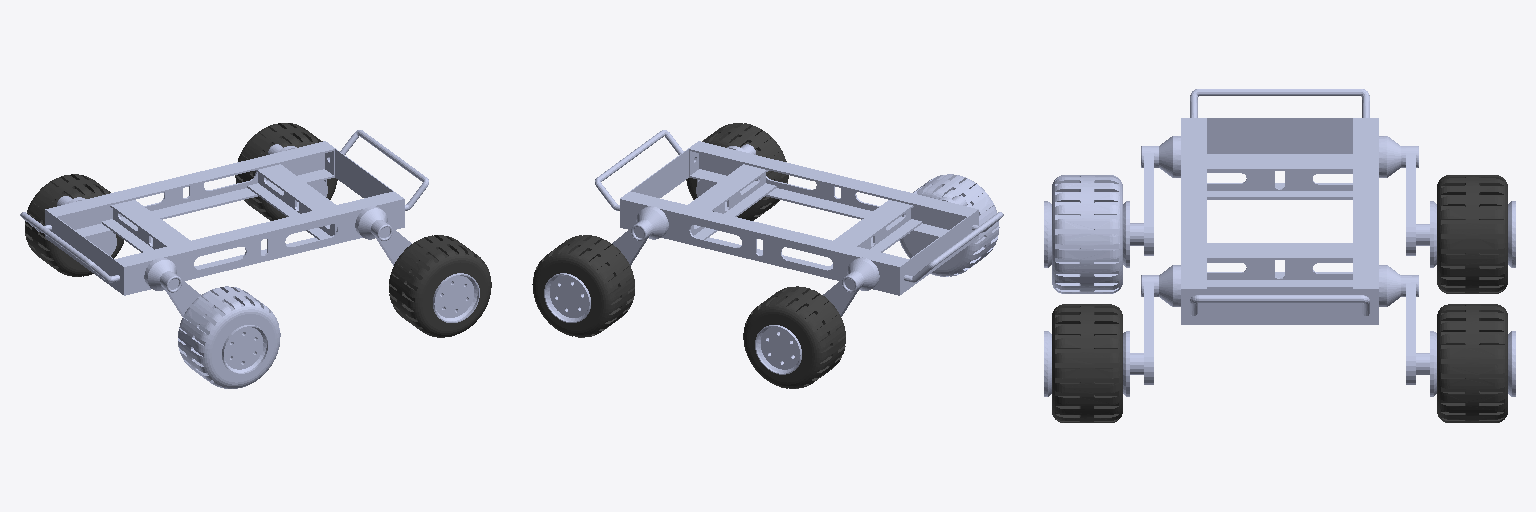
robot.urdf — proyecto_fumigador:
<?xml version="1.0" encoding="utf-8"?>
<!-- This URDF was automatically created by SolidWorks to URDF Exporter! Originally created by [author] ([email redacted]) 
     Commit Version: 1.6.0-1-g15f4949  Build Version: 1.6.7594.29634
     For more information, please see http://wiki.ros.org/sw_urdf_exporter -->
<robot
  name="proyecto_fumigador">
  <link
    name="base_link">
    <inertial>
      <origin
        xyz="-0.0356612346735711 3.67805356615847E-07 -0.0128610641223568"
        rpy="0 0 0" />
      <mass
        value="0.167760532974942" />
      <inertia
        ixx="3.71800544199456E-05"
        ixy="-8.22262142266548E-09"
        ixz="4.21907518734883E-06"
        iyy="9.62356157495E-05"
        iyz="-3.47433005707568E-09"
        izz="0.000105766981173787" />
    </inertial>
    <visual>
      <origin
        xyz="0 0 0"
        rpy="0 0 0" />
      <geometry>
        <mesh
          filename="package://proyecto_fumigador/meshes/base_link.STL" />
      </geometry>
      <material
        name="">
        <color
          rgba="0.792156862745098 0.819607843137255 0.933333333333333 1" />
      </material>
    </visual>
    <collision>
      <origin
        xyz="0 0 0"
        rpy="0 0 0" />
      <geometry>
        <mesh
          filename="package://proyecto_fumigador/meshes/base_link.STL" />
      </geometry>
    </collision>
  </link>
  <link
    name="Rueda_delante_derecha">
    <inertial>
      <origin
        xyz="-6.6613E-16 -6.1062E-16 0.02106"
        rpy="0 0 0" />
      <mass
        value="0.064311" />
      <inertia
        ixx="2.2707E-05"
        ixy="-7.6233E-21"
        ixz="-4.2246E-20"
        iyy="2.2707E-05"
        iyz="-3.5114E-20"
        izz="3.3129E-05" />
    </inertial>
    <visual>
      <origin
        xyz="0 0 0"
        rpy="0 0 0" />
      <geometry>
        <mesh
          filename="package://proyecto_fumigador/meshes/Rueda_delante_derecha.STL" />
      </geometry>
      <material
        name="">
        <color
          rgba="0.29804 0.29804 0.29804 1" />
      </material>
    </visual>
    <collision>
      <origin
        xyz="0 0 0"
        rpy="0 0 0" />
      <geometry>
        <mesh
          filename="package://proyecto_fumigador/meshes/Rueda_delante_derecha.STL" />
      </geometry>
    </collision>
  </link>
  <joint
    name="Rueda_delante_derecha_joint"
    type="continuous">
    <origin
      xyz="0.04679 -0.073443 -0.022585"
      rpy="1.5708 0.90612 0" />
    <parent
      link="base_link" />
    <child
      link="Rueda_delante_derecha" />
    <axis
      xyz="0 0 1" />
    <limit
      effort="100"
      velocity="100" />
  </joint>
  <link
    name="Rueda_delante_izquierda">
    <inertial>
      <origin
        xyz="-5.5511E-17 2.7756E-17 -0.02106"
        rpy="0 0 0" />
      <mass
        value="0.064311" />
      <inertia
        ixx="2.2707E-05"
        ixy="2.9646E-21"
        ixz="3.8695E-20"
        iyy="2.2707E-05"
        iyz="-1.5635E-21"
        izz="3.3129E-05" />
    </inertial>
    <visual>
      <origin
        xyz="0 0 0"
        rpy="0 0 0" />
      <geometry>
        <mesh
          filename="package://proyecto_fumigador/meshes/Rueda_delante_izquierda.STL" />
      </geometry>
      <material
        name="">
        <color
          rgba="0.29804 0.29804 0.29804 1" />
      </material>
    </visual>
    <collision>
      <origin
        xyz="0 0 0"
        rpy="0 0 0" />
      <geometry>
        <mesh
          filename="package://proyecto_fumigador/meshes/Rueda_delante_izquierda.STL" />
      </geometry>
    </collision>
  </link>
  <joint
    name="Rueda_delante_izquierda_joint"
    type="continuous">
    <origin
      xyz="0.046792 0.11556 -0.022583"
      rpy="1.5708 0.22028 -3.1416" />
    <parent
      link="base_link" />
    <child
      link="Rueda_delante_izquierda" />
    <axis
      xyz="0 0 1" />
    <limit
      effort="100"
      velocity="100" />
  </joint>
  <link
    name="Rueda_atras_izquierda">
    <inertial>
      <origin
        xyz="2.7756E-17 4.1633E-17 -0.02106"
        rpy="0 0 0" />
      <mass
        value="0.064311" />
      <inertia
        ixx="2.2707E-05"
        ixy="-2.9646E-20"
        ixz="2.0358E-21"
        iyy="2.2707E-05"
        iyz="-2.2088E-20"
        izz="3.3129E-05" />
    </inertial>
    <visual>
      <origin
        xyz="0 0 0"
        rpy="0 0 0" />
      <geometry>
        <mesh
          filename="package://proyecto_fumigador/meshes/Rueda_atras_izquierda.STL" />
      </geometry>
      <material
        name="">
        <color
          rgba="0.29804 0.29804 0.29804 1" />
      </material>
    </visual>
    <collision>
      <origin
        xyz="0 0 0"
        rpy="0 0 0" />
      <geometry>
        <mesh
          filename="package://proyecto_fumigador/meshes/Rueda_atras_izquierda.STL" />
      </geometry>
    </collision>
  </link>
  <joint
    name="Rueda_atras_izquierda_joint"
    type="continuous">
    <origin
      xyz="-0.10336 0.11556 -0.022583"
      rpy="1.5708 -1.1729 3.1416" />
    <parent
      link="base_link" />
    <child
      link="Rueda_atras_izquierda" />
    <axis
      xyz="0 0 1" />
    <limit
      effort="100"
      velocity="100" />
  </joint>
  <link
    name="Rueda_atras_derecha">
    <inertial>
      <origin
        xyz="-0.035661 3.6781E-07 -0.012861"
        rpy="0 0 0" />
      <mass
        value="0.16776" />
      <inertia
        ixx="3.718E-05"
        ixy="-8.2226E-09"
        ixz="4.2191E-06"
        iyy="9.6236E-05"
        iyz="-3.4743E-09"
        izz="0.00010577" />
    </inertial>
    <visual>
      <origin
        xyz="0 0 0"
        rpy="0 0 0" />
      <geometry>
        <mesh
          filename="package://proyecto_fumigador/meshes/Rueda_atras_derecha.STL" />
      </geometry>
      <material
        name="">
        <color
          rgba="0.79216 0.81961 0.93333 1" />
      </material>
    </visual>
    <collision>
      <origin
        xyz="0 0 0"
        rpy="0 0 0" />
      <geometry>
        <mesh
          filename="package://proyecto_fumigador/meshes/Rueda_atras_derecha.STL" />
      </geometry>
    </collision>
  </link>
  <joint
    name="Rueda_atras_derecha_joint"
    type="continuous">
    <origin
      xyz="-0.10336 -0.073443 -0.022585"
      rpy="-1.5708 -1.0066 0" />
    <parent
      link="base_link" />
    <child
      link="Rueda_atras_derecha" />
    <axis
      xyz="0 0 1" />
    <limit
      effort="100"
      velocity="100" />
  </joint>

  <gazebo reference="base_link">
    <mu1>2</mu1>
    <mu2>2</mu2>
    <kp>1000000</kp>
    <kd>1</kd>
    <material>Gazebo/Yellow</material>
  </gazebo>

  <gazebo reference="Rueda_atras_izquierda">
    <mu1>2</mu1>
    <mu2>2</mu2>
    <kp>1000000</kp>
    <kd>1</kd>
    <material>Gazebo/Gray</material>
  </gazebo>

  <gazebo reference="Rueda_delante_derecha">
    <mu1>2</mu1>
    <mu2>2</mu2>
    <kp>1000000</kp>
    <kd>1</kd>
    <material>Gazebo/Gray</material>
  </gazebo>
  <gazebo reference="Rueda_atras_derecha">
    <mu1>2</mu1>
    <mu2>2</mu2>
    <kp>1000000</kp>
    <kd>1</kd>
    <material>Gazebo/Gray</material>
  </gazebo>
  <gazebo reference="Rueda_delante_izquierda">
    <mu1>2</mu1>
    <mu2>2</mu2>
    <kp>1000000</kp>
    <kd>1</kd>
    <material>Gazebo/Gray</material>
  </gazebo>

<gazebo>
    
    <plugin name="skid_steer_drive_controller" filename="libgazebo_ros_skid_steer_drive.so">
      <updateRate>50.0</updateRate>
      <robotNamespace>/</robotNamespace>

      <leftFrontJoint>Rueda_delante_izquierda_joint</leftFrontJoint>
      <rightFrontJoint>Rueda_delante_derecha_joint</rightFrontJoint>
      <leftRearJoint>Rueda_atras_izquierda_joint</leftRearJoint>
      <rightRearJoint>Rueda_atras_derecha_joint</rightRearJoint>

      <wheelSeparation>1</wheelSeparation>
      <wheelDiameter>0.45</wheelDiameter>
      <robotBaseFrame>base_link</robotBaseFrame>
      <torque>20</torque>

      <topicName>cmd_vel</topicName>
      <odometryTopic>odom</odometryTopic>
      <odometryFrame>odom</odometryFrame>

      <commandTopic>cmd_vel</commandTopic>
      <topic_name_twist>cmd_vel</topic_name_twist>
      <topic_name_odometry>odom</topic_name_odometry>
      <topic_name_joint>joint</topic_name_joint>

      <broadcastTF>true</broadcastTF>

      <covariance_x>0.1</covariance_x>
      <covariance_y>0.1</covariance_y>
      <covariance_yaw>0.1</covariance_yaw>

    </plugin>

  </gazebo>
</robot>

--- What the picture shows (computed from the rendered views, not written in the file) ---
3 views of the same robot in one strip: view 1: azimuth 30°, elevation 25°; view 2: azimuth 150°, elevation 25°; view 3: azimuth 270°, elevation 25° (orthographic).
Robot: proyecto_fumigador — 5 links, 4 joints (4 continuous); root link base_link; default pose: every joint at zero.
Visible links, largest first — view 1: base_link, Rueda_atras_derecha, Rueda_delante_derecha, Rueda_atras_izquierda, Rueda_delante_izquierda; view 2: base_link, Rueda_atras_izquierda, Rueda_delante_izquierda, Rueda_atras_derecha, Rueda_delante_derecha; view 3: base_link, Rueda_atras_derecha, Rueda_delante_izquierda, Rueda_delante_derecha, Rueda_atras_izquierda.
Boxes of the visible links, x1,y1,x2,y2 form: base_link: (20,130,479,374); Rueda_atras_derecha: (178,286,280,388); Rueda_delante_derecha: (389,235,491,337); Rueda_atras_izquierda: (25,174,123,276); Rueda_delante_izquierda: (235,123,337,220); base_link: (544,130,1003,374); Rueda_atras_izquierda: (743,286,845,388); Rueda_delante_izquierda: (532,235,634,337); Rueda_atras_derecha: (899,174,999,276); Rueda_delante_derecha: (686,123,788,220); base_link: (1044,89,1515,396); Rueda_atras_derecha: (1052,175,1122,293); Rueda_delante_izquierda: (1437,304,1507,422); Rueda_delante_derecha: (1052,304,1122,422); Rueda_atras_izquierda: (1437,175,1507,293).
Size in the robot's own frame: 0.2498 by 0.2311 by 0.0762 metres.
Meshes: 5 distinct files referenced, 5 mesh visuals loaded (5 binary STL).